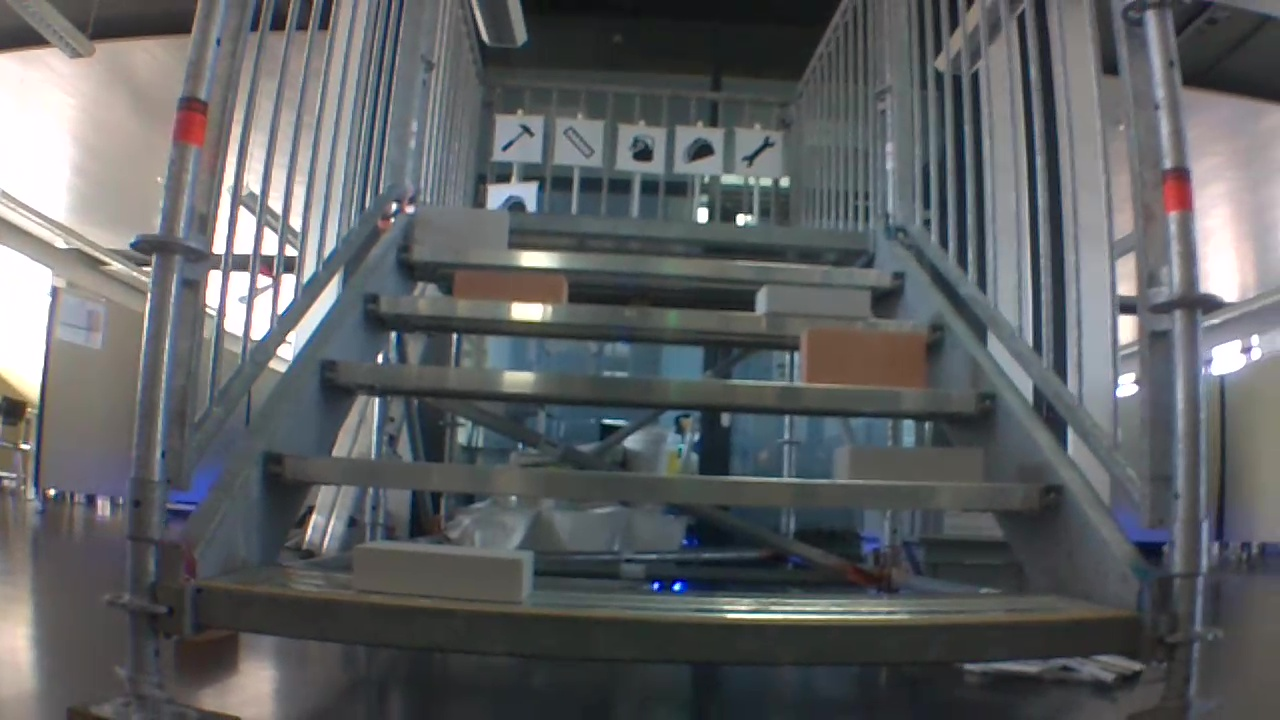brick: (349, 542, 542, 591), (800, 333, 920, 386), (834, 441, 995, 479), (408, 209, 513, 248), (750, 286, 872, 319), (452, 275, 563, 304)
bucket: (625, 133, 657, 165)
edge: (194, 577, 1150, 660), (258, 453, 1071, 515), (322, 357, 997, 417), (363, 292, 938, 343), (405, 204, 870, 253), (399, 243, 903, 284)
hammer: (499, 123, 534, 152)
ruler: (562, 127, 596, 159)
stairs: (117, 0, 1180, 713)
steps: (163, 209, 1156, 643)
taco: (685, 136, 716, 162), (502, 188, 527, 208)
wrench: (743, 136, 776, 170)
